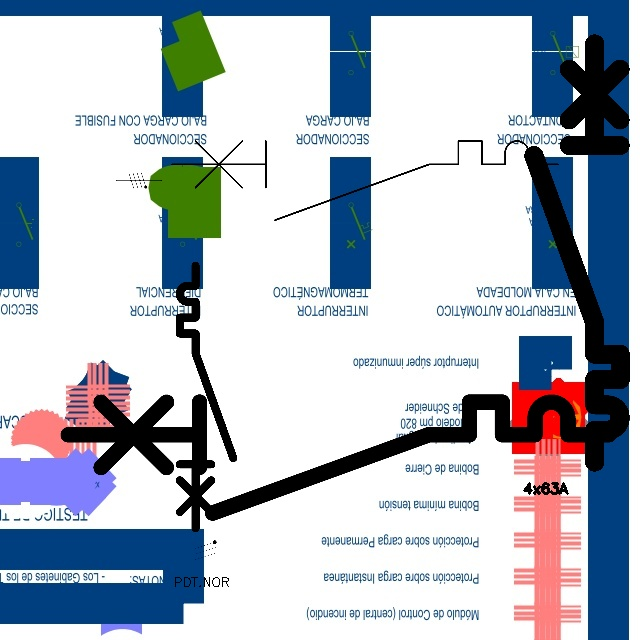interruptor_termomagnetico: (54, 388, 623, 527), (523, 33, 631, 473), (161, 131, 567, 230), (173, 259, 240, 535)
